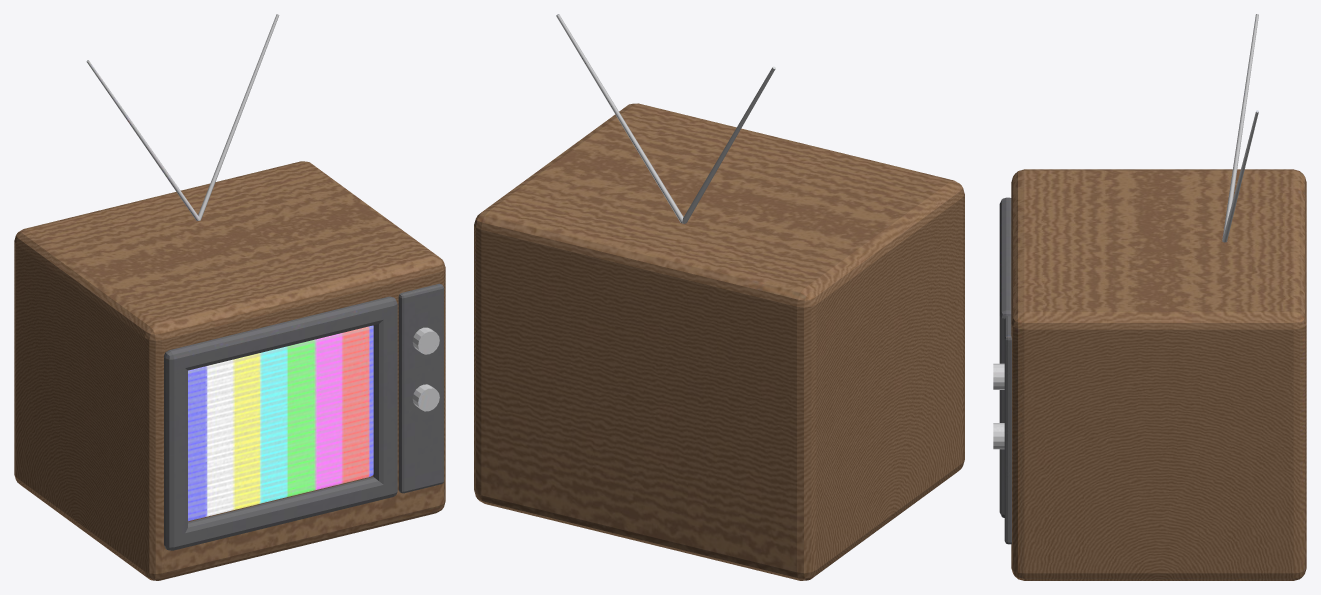
File: crt_tv.glb
3 renders of one model, left to right at view 1: azimuth 30°, elevation 25°; view 2: azimuth 150°, elevation 25°; view 3: azimuth 270°, elevation 25°, orthographic. The views are drawn at different scales.
Visible parts, largest first — view 1: crt_tv; view 2: crt_tv; view 3: crt_tv.
Part boxes in pixels (x1=…): crt_tv: x1=14, y1=14, x2=445, y2=580; crt_tv: x1=474, y1=14, x2=964, y2=580; crt_tv: x1=993, y1=14, x2=1306, y2=580.
Bounding box in the file's own units: 11 × 15.02 × 9.55.
1 material, 1 textured.
